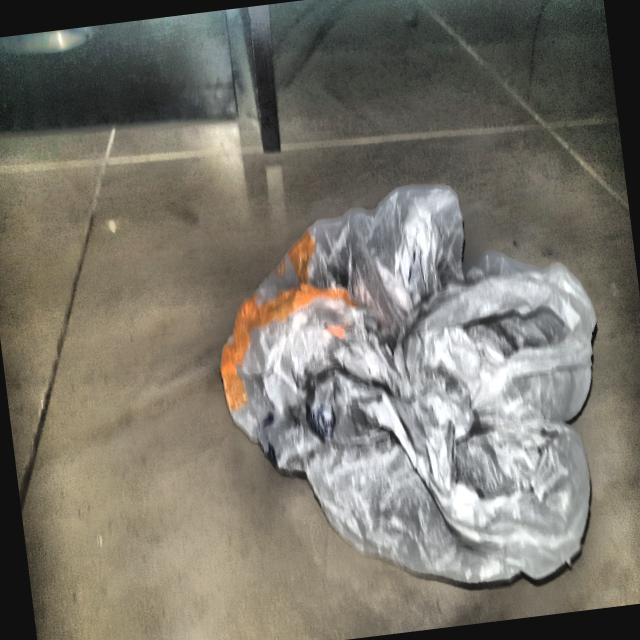plastic bag: (191, 144, 631, 636)
